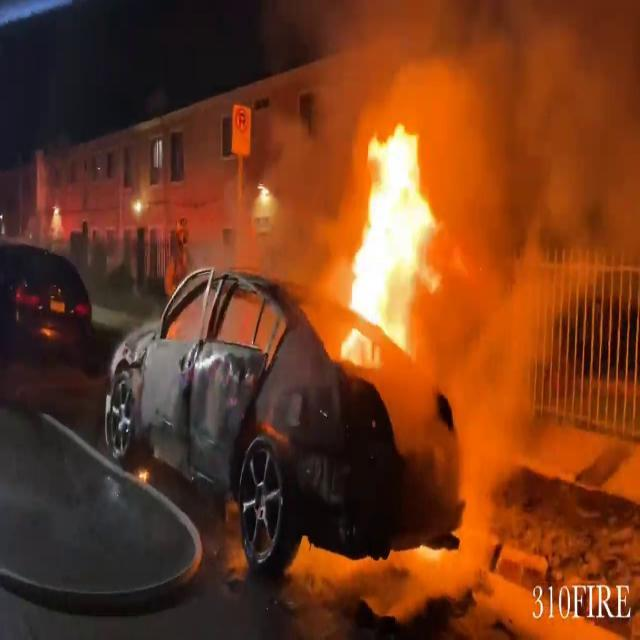Fire: (332, 116, 450, 352)
Smoke: (422, 0, 640, 479)
